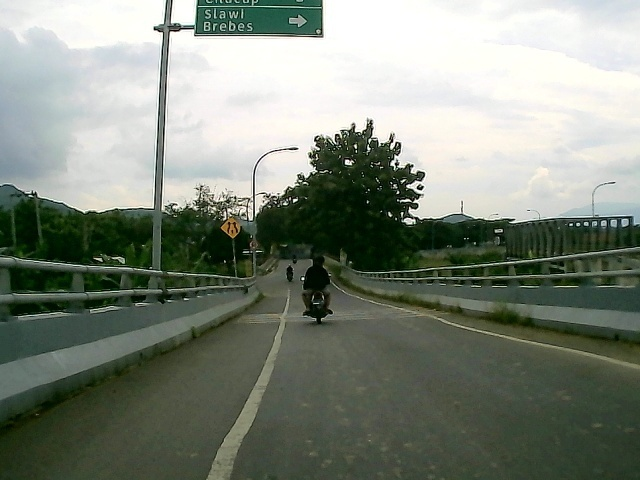Akhir bangunan pemisah satu arah: (219, 216, 244, 241)
